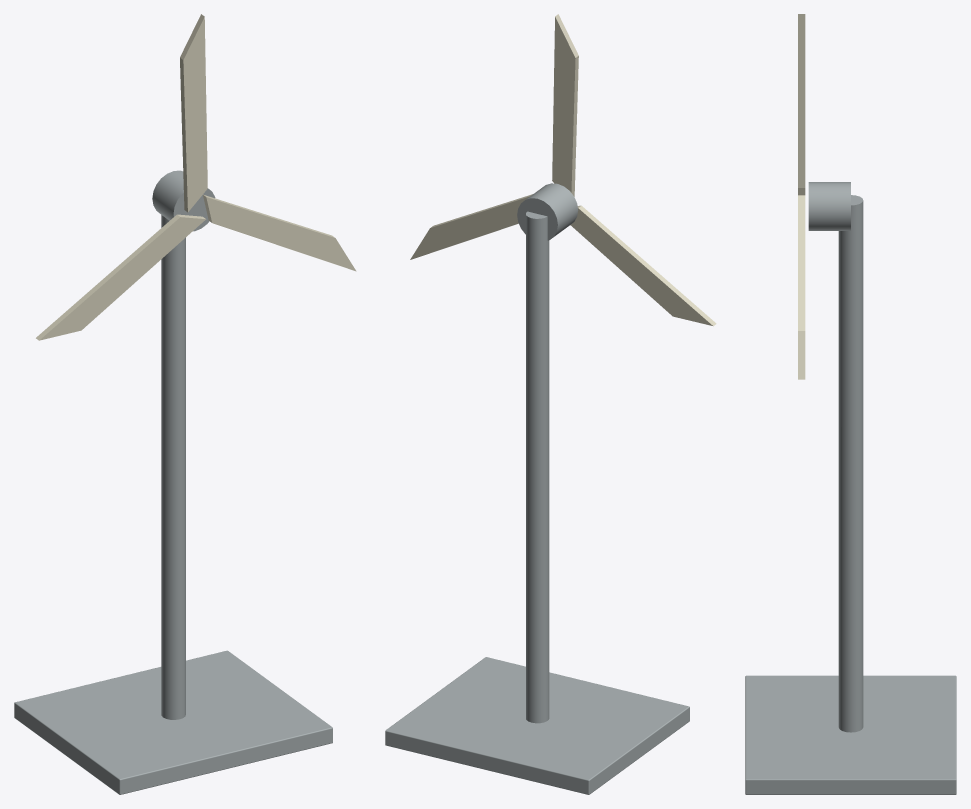
Rendered from off-grid-power-and-controls-micro-wind-turbine-bd0e0856__2964.glb.
3 views of the same model, side by side, from view 1: azimuth 30°, elevation 25°; view 2: azimuth 150°, elevation 25°; view 3: azimuth 270°, elevation 25° (orthographic). The views are drawn at different scales.
Visible parts, largest first — view 1: micro-wind-turbine; view 2: micro-wind-turbine; view 3: micro-wind-turbine.
Part boxes in pixels (left/top/right/bottom): micro-wind-turbine: left=14, top=14, right=356, bottom=794; micro-wind-turbine: left=385, top=14, right=716, bottom=794; micro-wind-turbine: left=745, top=14, right=956, bottom=794.
Size of the model in its own units: 1.04 by 2.29 by 0.5999.
